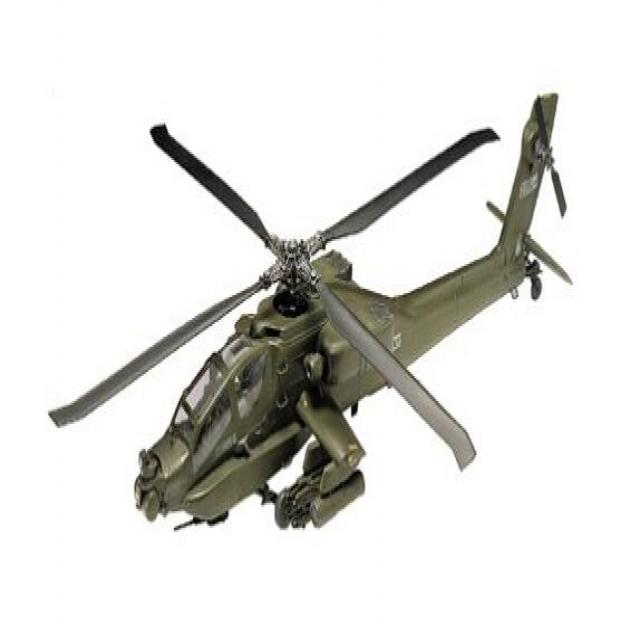MIL_HELO: (48, 88, 600, 578)
